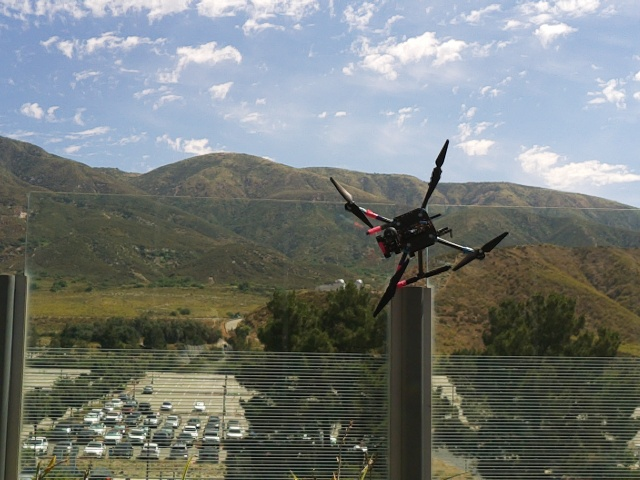quadcopter: (327, 133, 524, 319)
